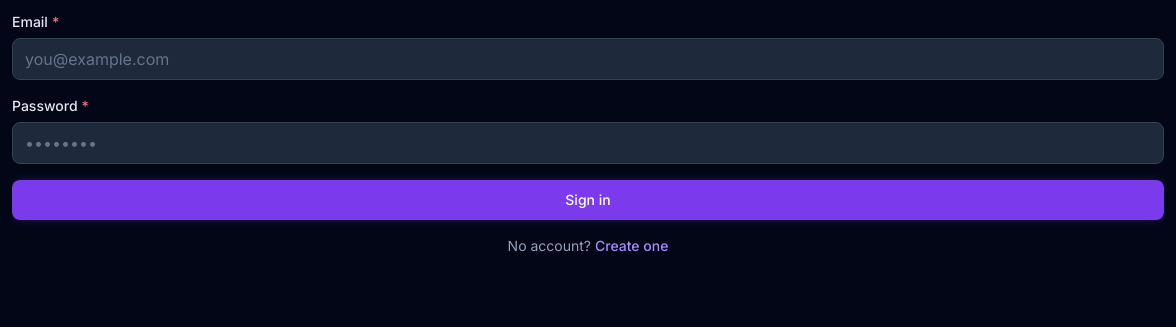
Scenario: LoginForm › shows "Invalid email or password" when login throws ApiError with INVALID_CREDENTIALS
This screenshot has width=1176, height=327.
Type "hero@example.com" into the field labelled "Email*" at (588, 59), box x1=12 y1=38 x2=1164 y2=80
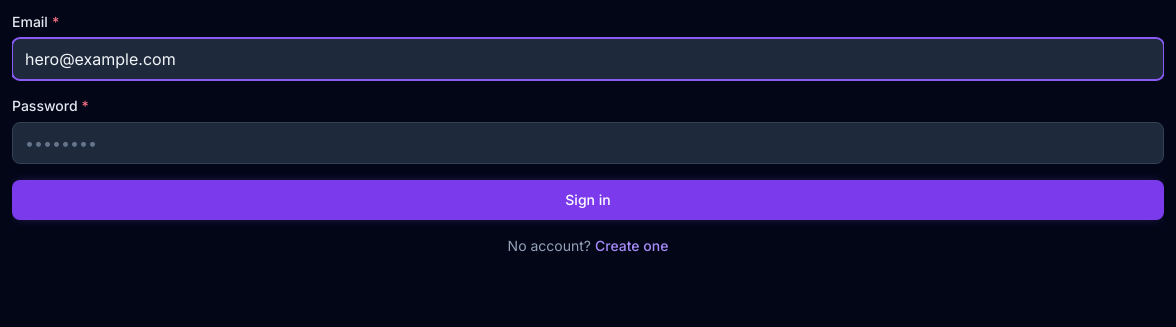
Type "wrongpass" into the password field labelled "Password*" at (588, 143), box x1=12 y1=122 x2=1164 y2=164
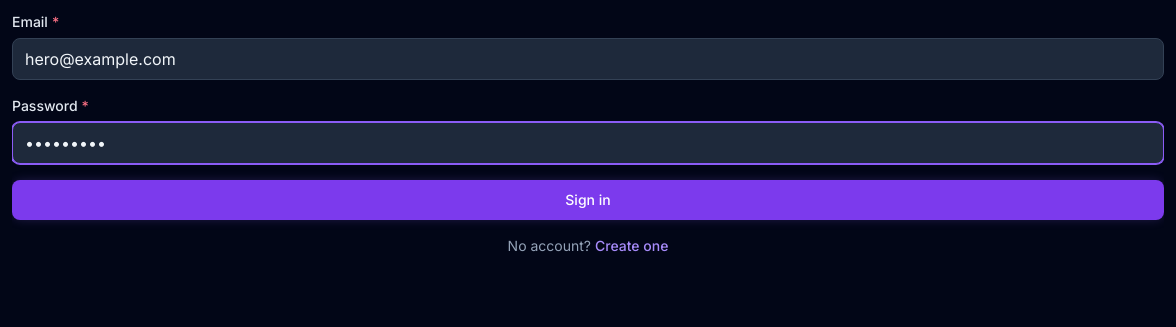
Click the button "Sign in" at (588, 200), box x1=12 y1=180 x2=1164 y2=220
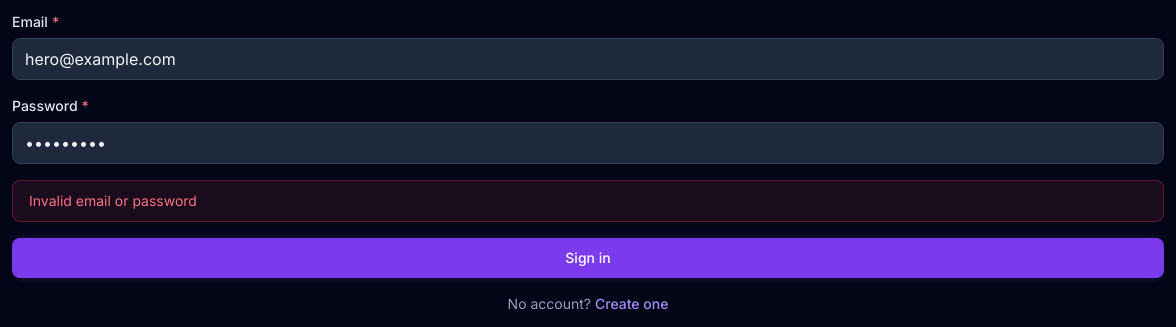
Check: the text "Invalid email or password" is shown, box x1=12 y1=180 x2=1164 y2=222
